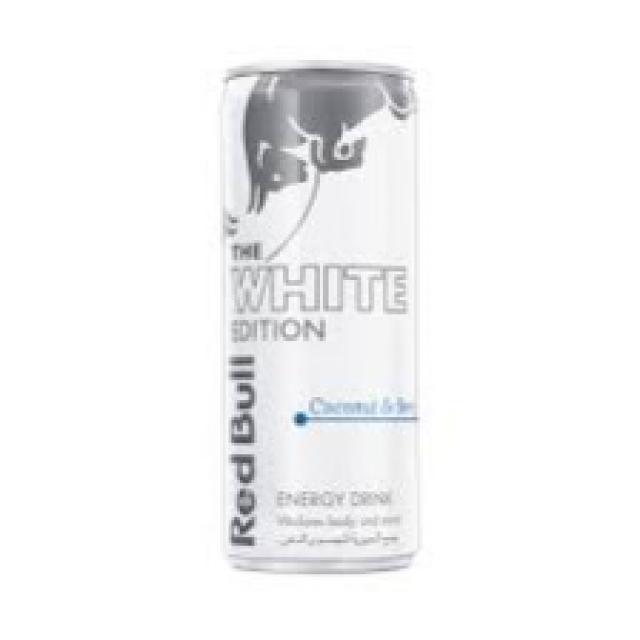metel: (221, 63, 426, 578)
